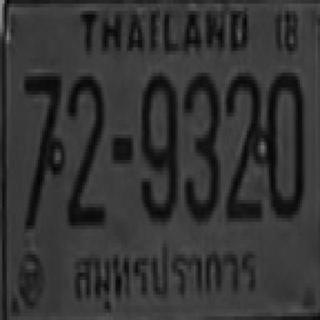N00: (264, 71, 302, 216)
N02: (66, 73, 103, 225), (226, 71, 261, 220)
N03: (182, 69, 218, 218)
N07: (22, 69, 60, 225), (22, 69, 60, 178)
N09: (138, 69, 176, 218)
P57: (68, 240, 261, 312)
